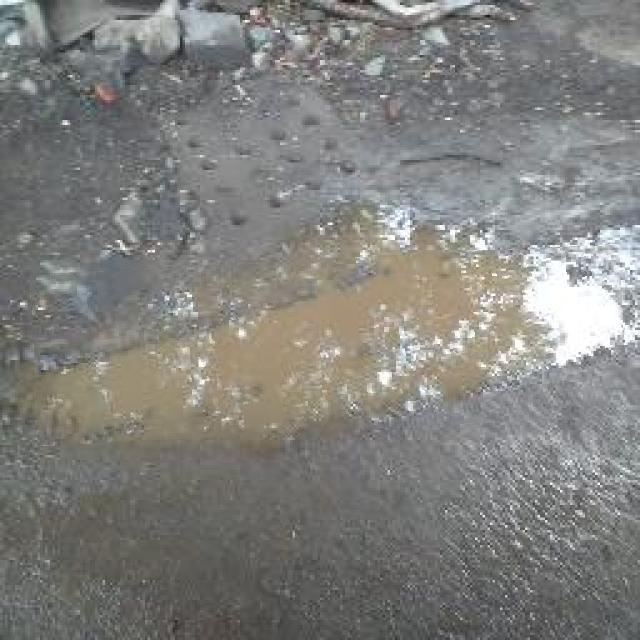puddle: (33, 253, 627, 439)
